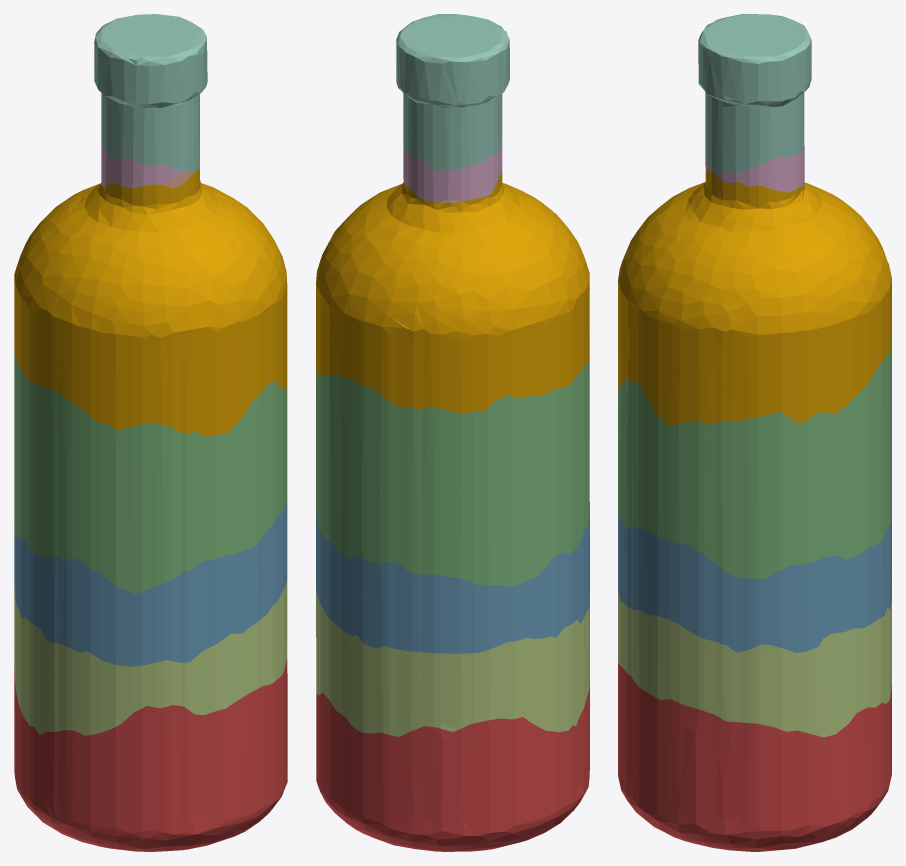
The model's file is fractured_49_8pcs.glb.
3 views of the same model, side by side, from view 1: azimuth 30°, elevation 25°; view 2: azimuth 150°, elevation 25°; view 3: azimuth 270°, elevation 25° (orthographic).
Parts seen in each view (by area): view 1: piece_0.obj, piece_3.obj, piece_1.obj, piece_2.obj, piece_5.obj, piece_4.obj, piece_6.obj; view 2: piece_0.obj, piece_3.obj, piece_1.obj, piece_5.obj, piece_2.obj, piece_4.obj, piece_6.obj; view 3: piece_0.obj, piece_3.obj, piece_1.obj, piece_5.obj, piece_2.obj, piece_4.obj, piece_6.obj.
Part boxes in pixels (left/top/right/bottom): piece_0.obj: left=14, top=169, right=287, bottom=436; piece_3.obj: left=14, top=347, right=287, bottom=593; piece_1.obj: left=14, top=659, right=287, bottom=851; piece_2.obj: left=14, top=500, right=287, bottom=666; piece_5.obj: left=14, top=581, right=287, bottom=735; piece_4.obj: left=94, top=14, right=207, bottom=172; piece_6.obj: left=101, top=147, right=199, bottom=188; piece_0.obj: left=316, top=172, right=589, bottom=413; piece_3.obj: left=316, top=360, right=589, bottom=587; piece_1.obj: left=316, top=681, right=589, bottom=851; piece_5.obj: left=316, top=590, right=589, bottom=736; piece_2.obj: left=316, top=512, right=589, bottom=653; piece_4.obj: left=396, top=14, right=509, bottom=173; piece_6.obj: left=403, top=139, right=502, bottom=202; piece_0.obj: left=618, top=171, right=891, bottom=425; piece_3.obj: left=618, top=346, right=891, bottom=578; piece_1.obj: left=618, top=663, right=891, bottom=851; piece_5.obj: left=618, top=592, right=891, bottom=737; piece_2.obj: left=618, top=509, right=891, bottom=652; piece_4.obj: left=698, top=14, right=811, bottom=175; piece_6.obj: left=705, top=145, right=804, bottom=192.
Size of the model in its own units: 0.3203 by 1 by 0.3202.
